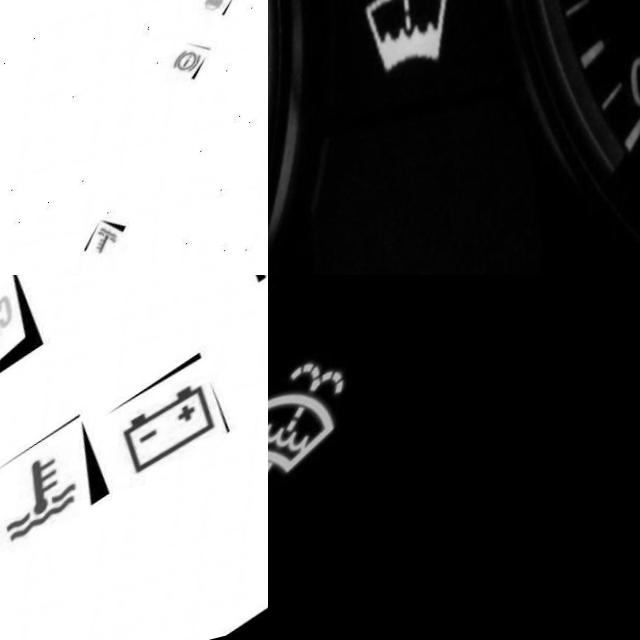Washer Fluid: (268, 368, 356, 496), (366, 0, 457, 97)
